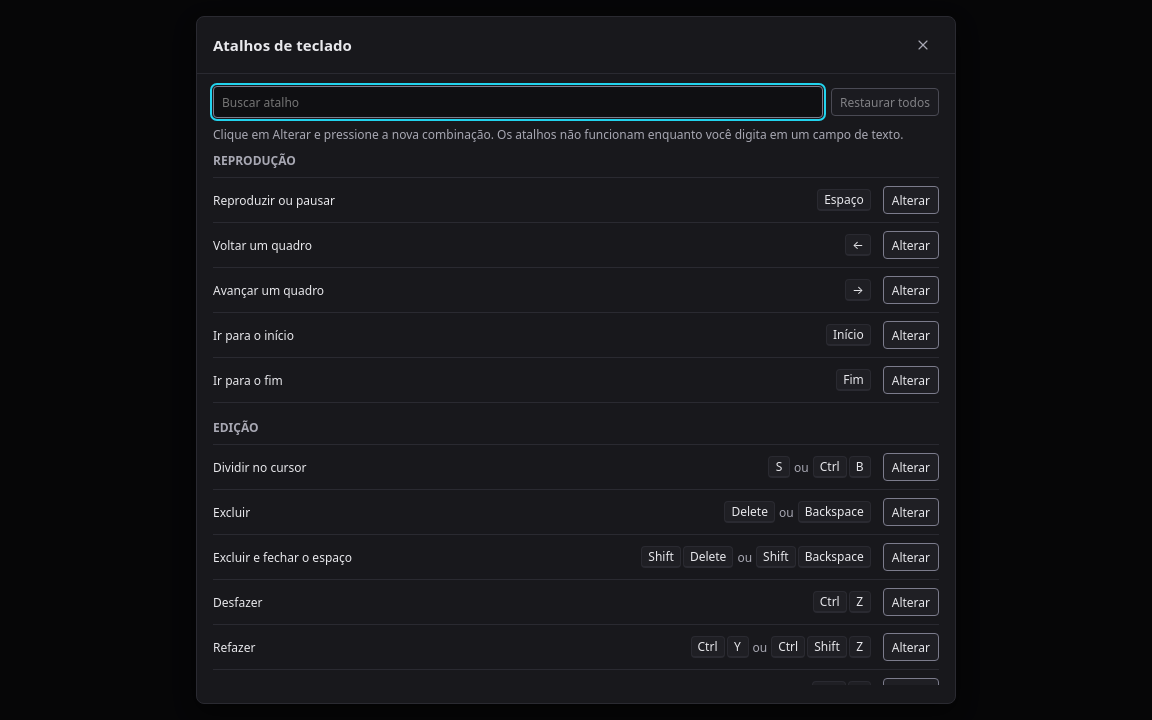
Test case: ShortcutsDialog › Esc cancela a troca sem fechar o painel
The width and height of the screenshot is (1152, 720).
Click the button "Alterar" in the row of "Desfazer".
click(911, 602)  # box top-left (883, 588), bottom-right (939, 616)
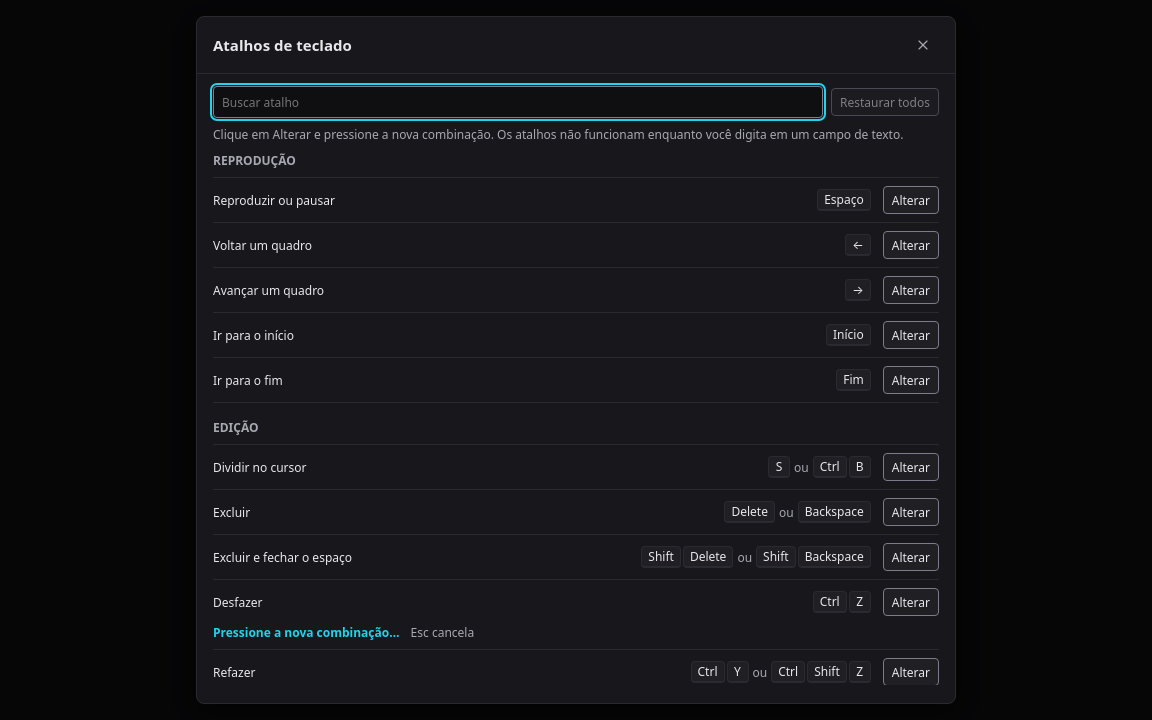
Press Escape in the dialog
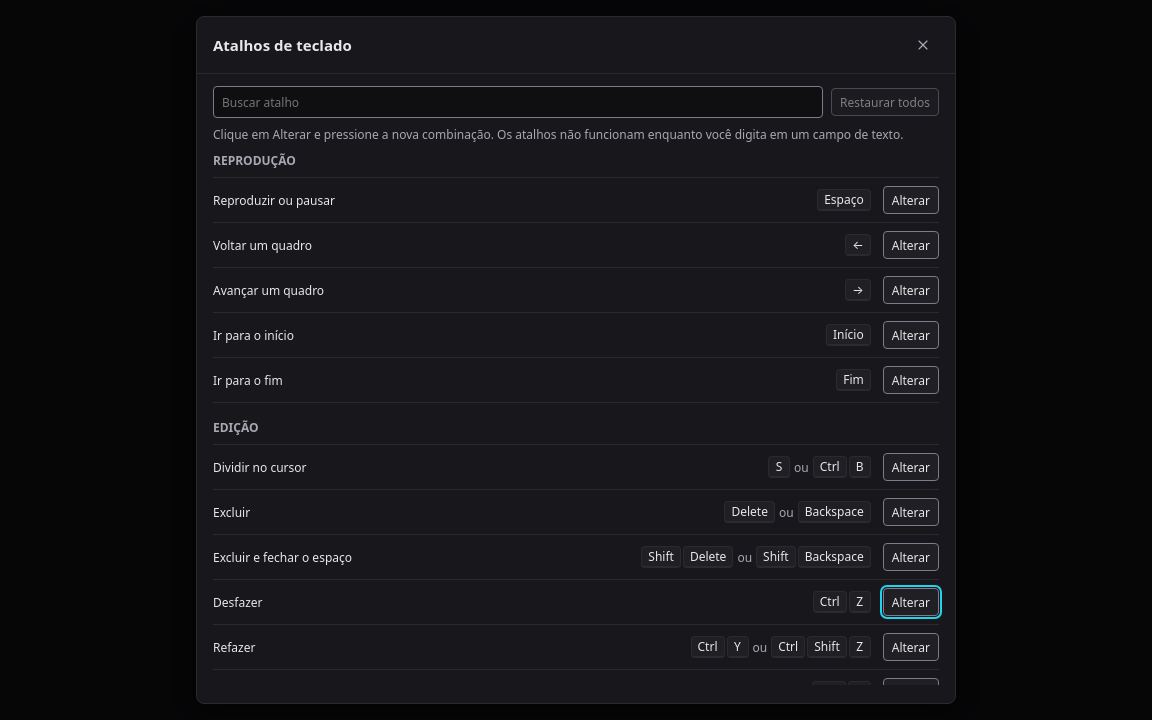
Now the text "Pressione a nova combinação…" is gone
